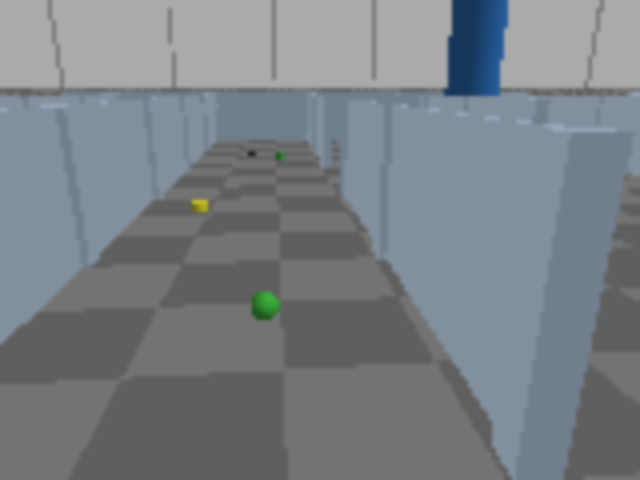puck: (248, 287, 280, 327)
